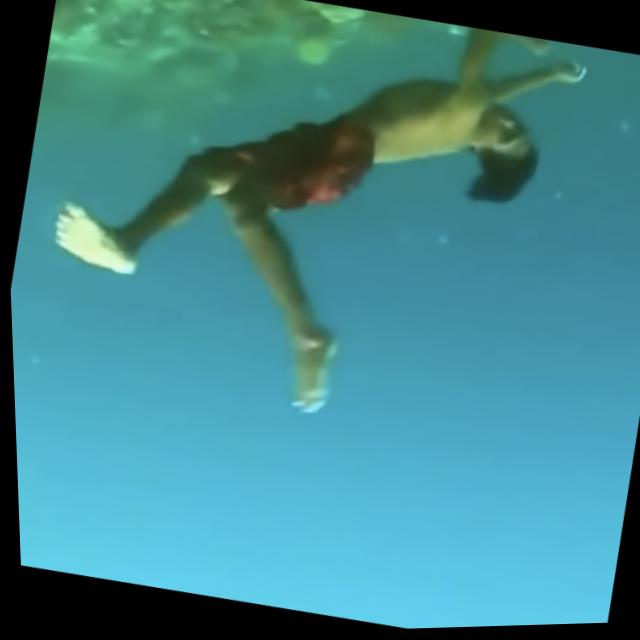human: (7, 0, 605, 479)
